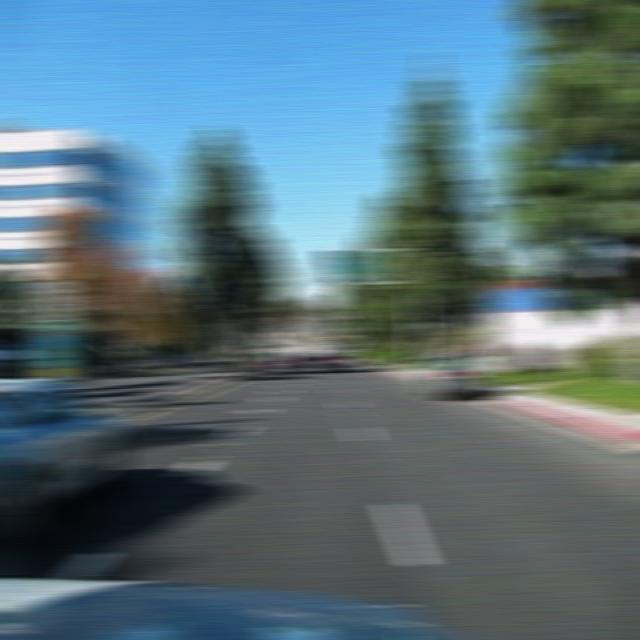speedLimit35: (34, 278, 72, 318)
